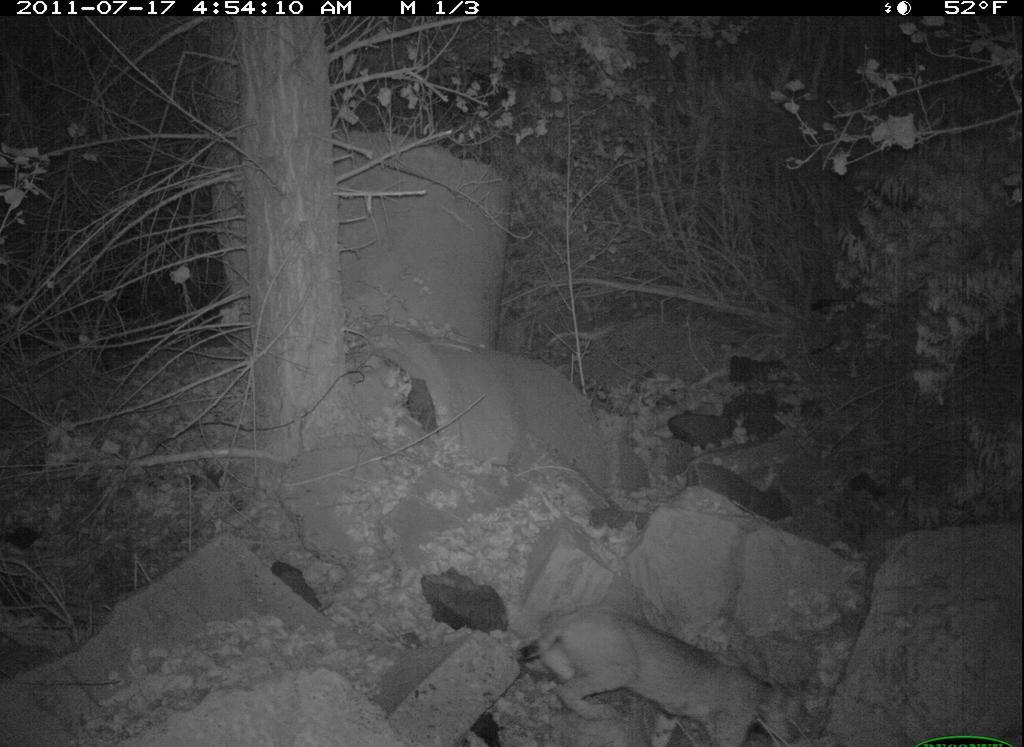bobcat: (518, 603, 804, 747)
